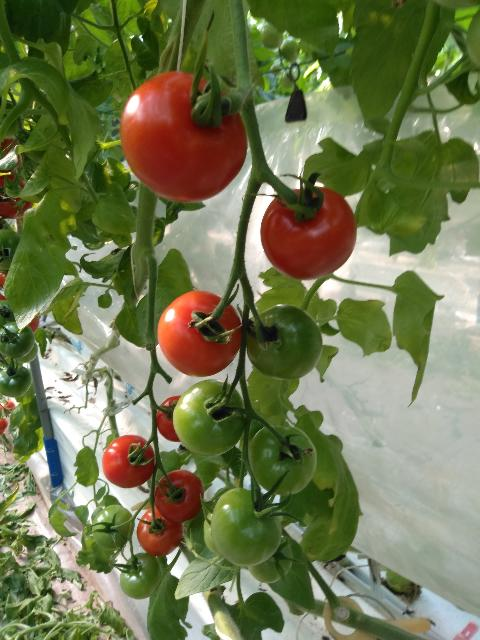l_fully_ripened: (119, 71, 248, 202), (260, 187, 357, 281), (157, 290, 242, 377), (102, 434, 155, 489), (155, 469, 204, 523), (137, 506, 183, 557), (0, 175, 33, 219), (156, 394, 182, 443), (0, 137, 23, 173)
l_green: (172, 379, 247, 457), (247, 304, 323, 380), (210, 488, 282, 566), (248, 424, 318, 496), (246, 536, 293, 584), (119, 552, 162, 600), (93, 505, 135, 550), (0, 321, 35, 358), (0, 366, 32, 397), (204, 505, 222, 556), (0, 228, 21, 270), (13, 342, 38, 363)
